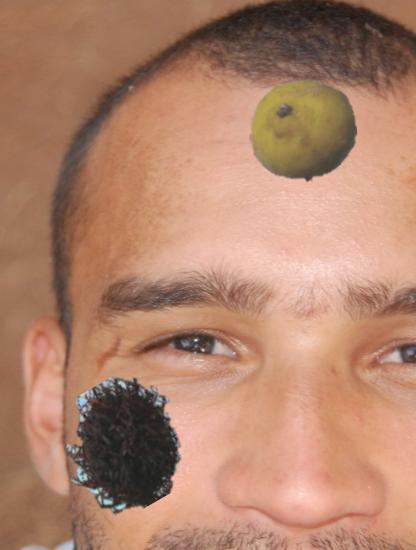Lemon: (249, 77, 358, 186)
Rambutan: (59, 380, 189, 510)
